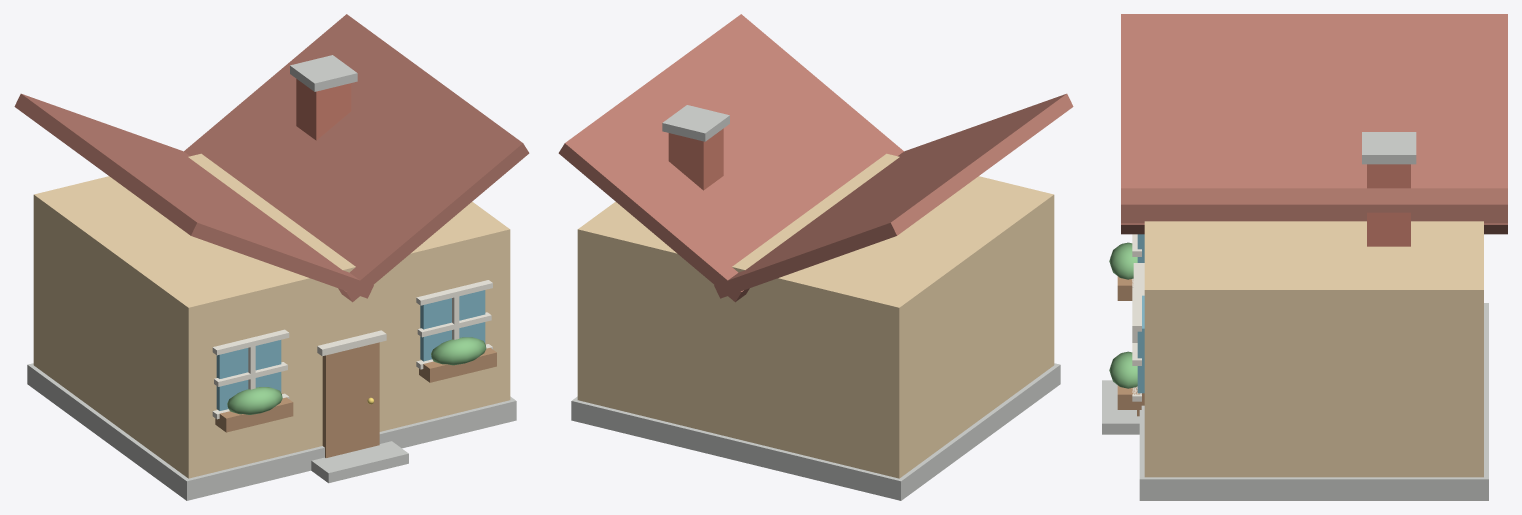
The model's file is house_1.glb.
3 renders of one model, left to right at view 1: azimuth 30°, elevation 25°; view 2: azimuth 150°, elevation 25°; view 3: azimuth 270°, elevation 25°, orthographic. The views are drawn at different scales.
Visible parts, largest first — view 1: house, gable_roof (×2), foundation, door, window (×2), flower_box (×2), chimney, flowers (×2), door_step, chimney_cap, window_trim (×2), window_frame (×2) (+1 smaller); view 2: house, gable_roof (×2), foundation, chimney, chimney_cap; view 3: house, gable_roof (×2), foundation, chimney, chimney_cap, flowers (×2), door_step, window, flower_box, window_trim.
Boxes of the visible parts, bbox=[...] form: house: bbox=[33, 153, 510, 478]; gable_roof (×2): bbox=[14, 14, 529, 302]; foundation: bbox=[27, 363, 516, 500]; door: bbox=[322, 342, 379, 457]; window (×2): bbox=[216, 290, 485, 410]; flower_box (×2): bbox=[215, 347, 496, 432]; chimney: bbox=[296, 79, 351, 140]; flowers (×2): bbox=[227, 337, 486, 414]; door_step: bbox=[311, 441, 408, 483]; chimney_cap: bbox=[290, 55, 357, 91]; window_trim (×2): bbox=[212, 280, 492, 355]; window_frame (×2): bbox=[214, 312, 491, 386]; house: bbox=[577, 153, 1054, 478]; gable_roof (×2): bbox=[558, 14, 1073, 302]; foundation: bbox=[571, 363, 1060, 500]; chimney: bbox=[668, 128, 723, 190]; chimney_cap: bbox=[662, 105, 729, 141]; house: bbox=[1144, 221, 1483, 477]; gable_roof (×2): bbox=[1121, 14, 1507, 234]; foundation: bbox=[1139, 303, 1488, 500]; chimney: bbox=[1367, 164, 1410, 246]; chimney_cap: bbox=[1362, 132, 1416, 164]; flowers (×2): bbox=[1109, 242, 1137, 388]; door_step: bbox=[1102, 380, 1139, 434]; window: bbox=[1137, 295, 1144, 393]; flower_box: bbox=[1117, 385, 1141, 409]; window_trim: bbox=[1132, 287, 1141, 331].
Bounding box in the file's own units: 6.32 × 5.13 × 5.97.
